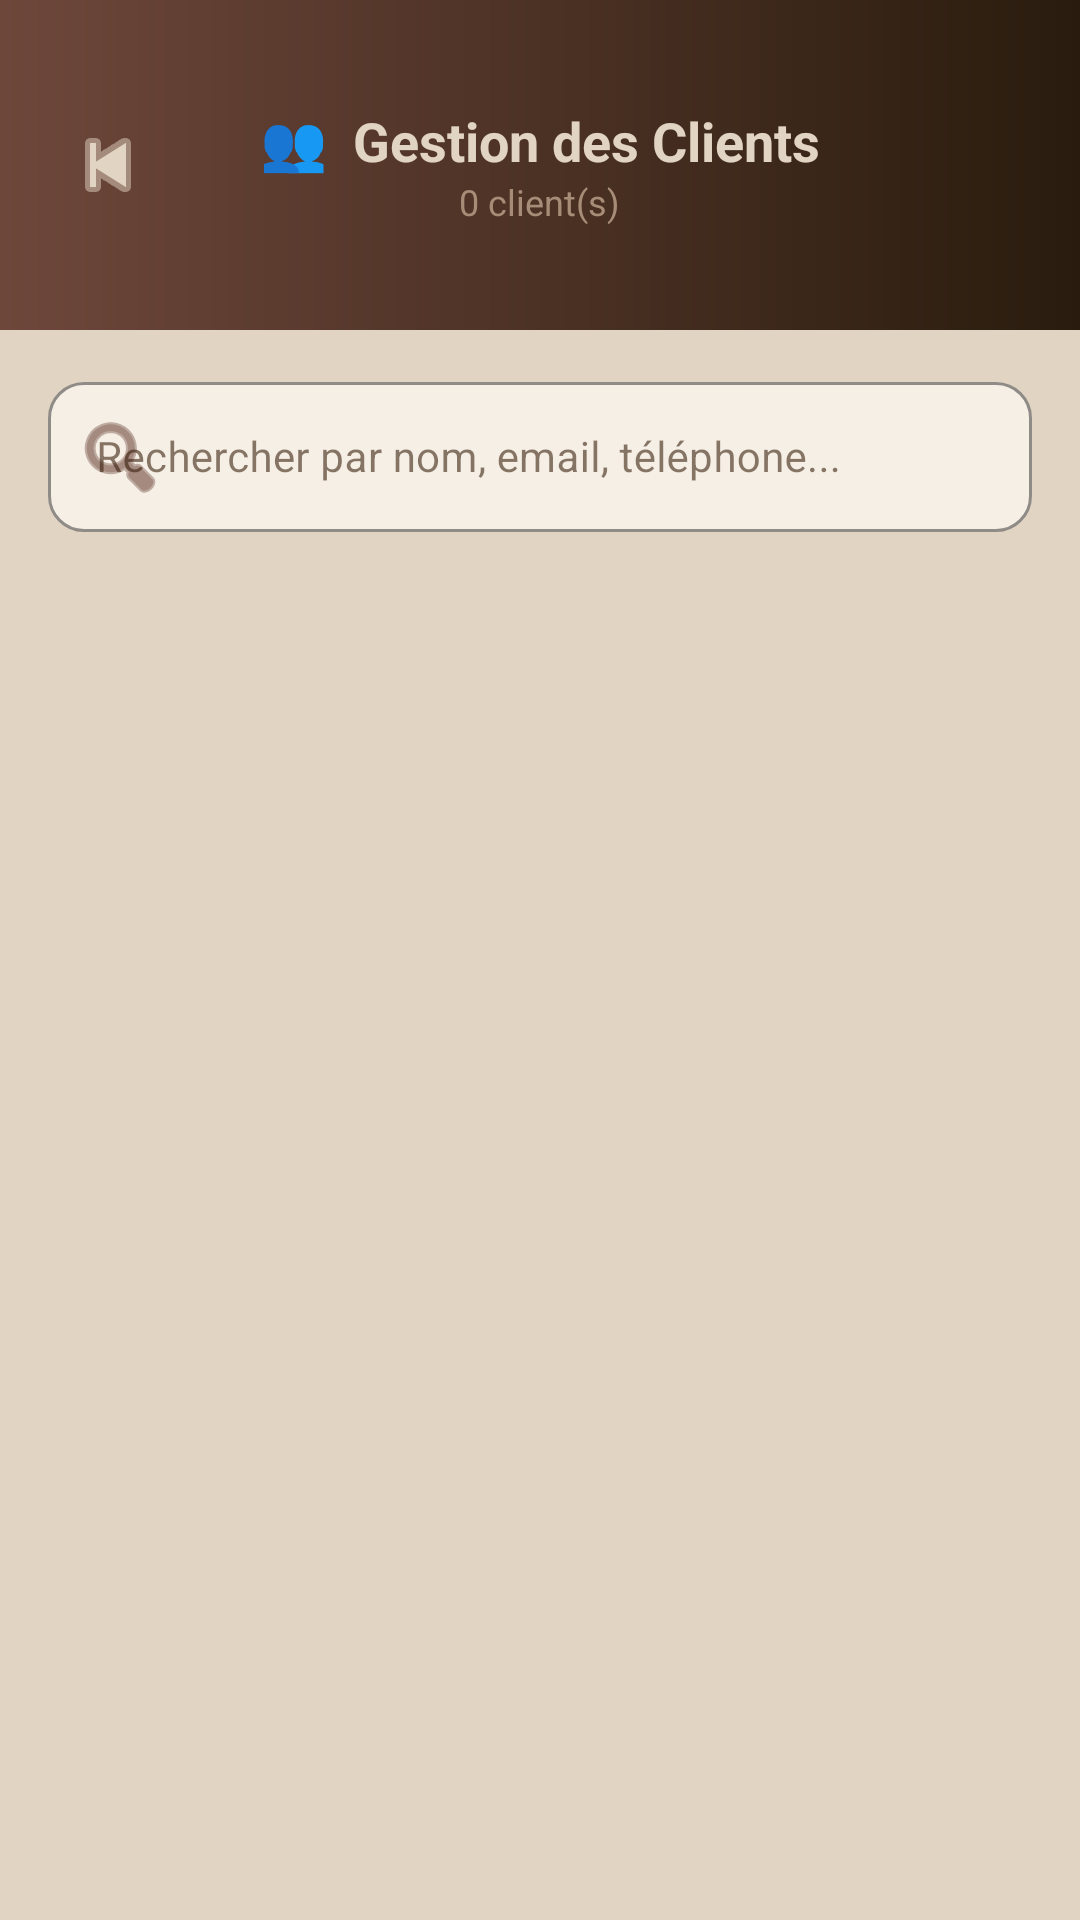

Icon bounding boxes for this 1080w x 1920h phone screenshot, format (x1, y1, x2, y2):
previous: (85, 138, 131, 192)
